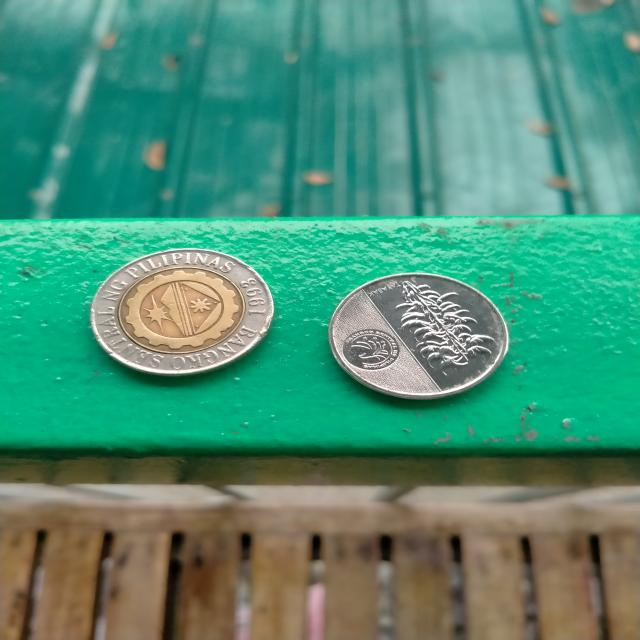10_Old_Back: (96, 244, 271, 378)
5_New_Back: (394, 273, 491, 370)
